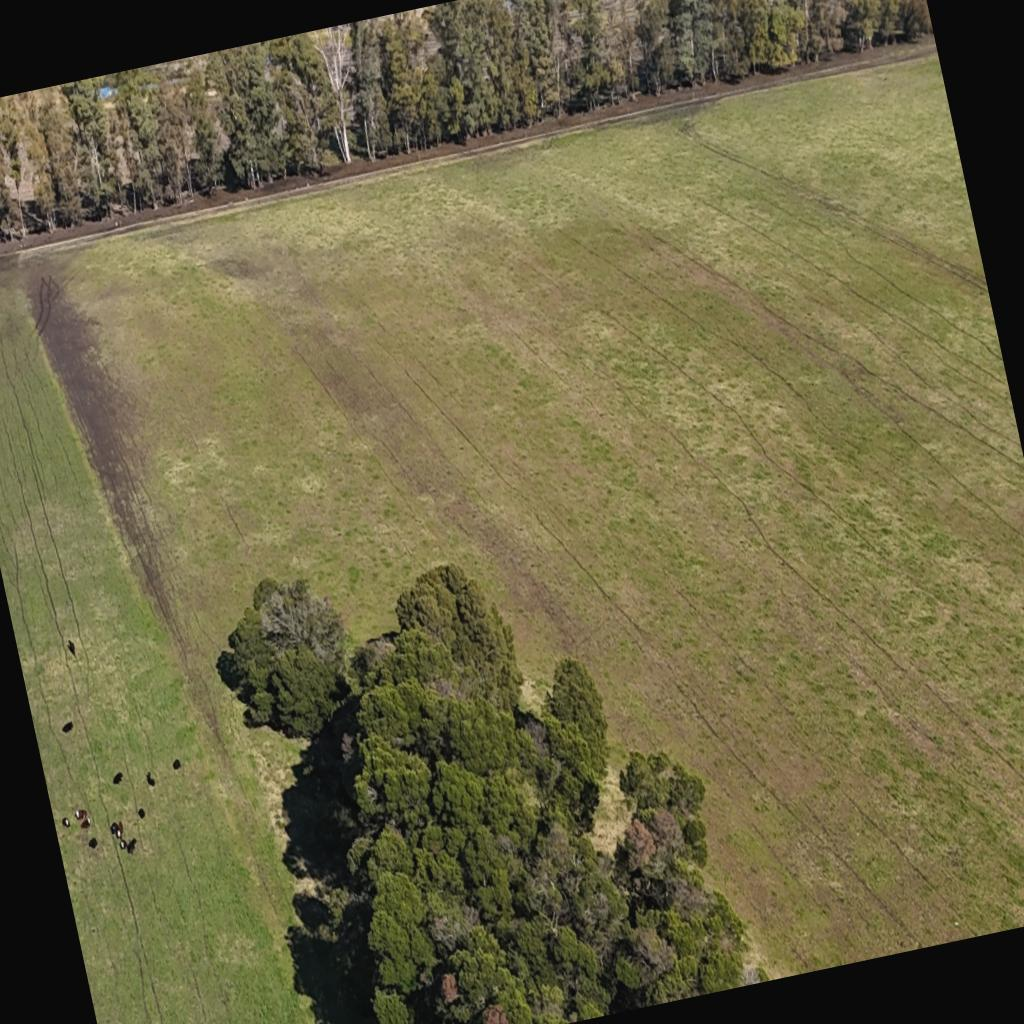cow: (66, 638, 78, 660), (124, 837, 139, 854), (60, 719, 76, 734), (79, 816, 93, 832), (172, 759, 185, 775), (116, 820, 126, 840), (74, 806, 88, 820), (111, 771, 124, 786), (145, 771, 156, 787), (110, 821, 120, 838), (87, 836, 99, 850), (136, 806, 146, 820), (62, 816, 72, 828), (119, 839, 127, 850)
